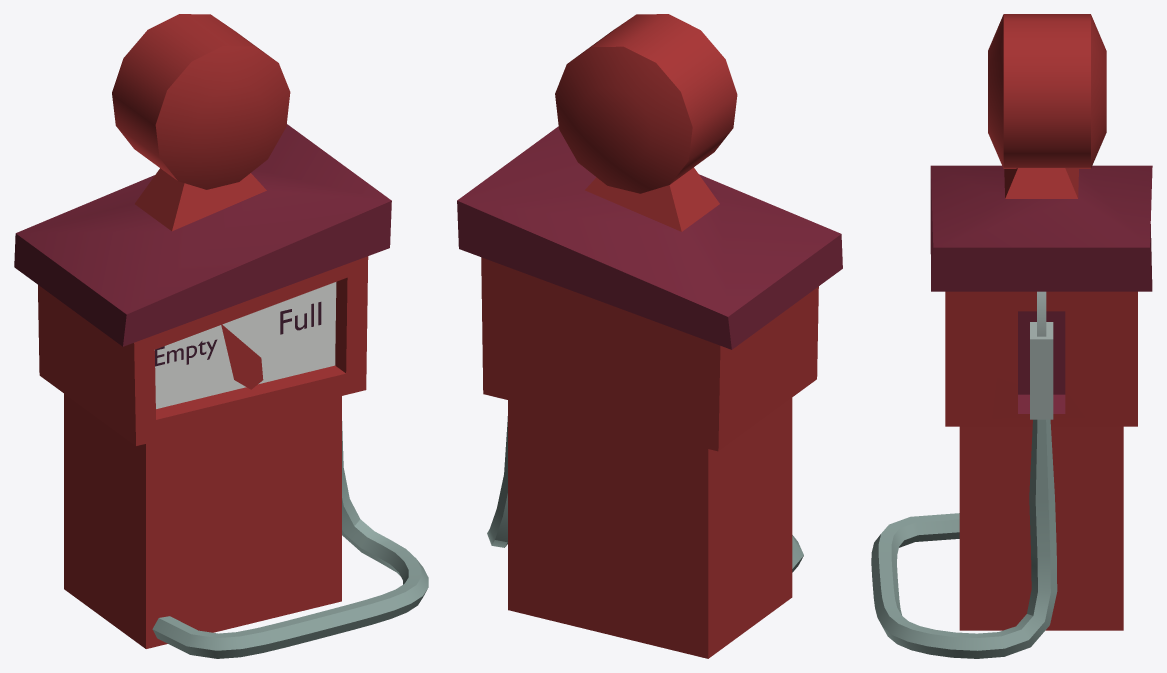
The model's file is Instrybutor.fbx.
The picture shows the model from 3 angles, left to right: view 1: azimuth 30°, elevation 25°; view 2: azimuth 150°, elevation 25°; view 3: azimuth 270°, elevation 25°; orthographic projection. The views are drawn at different scales.
Visible parts, largest first — view 1: Dystrybutor; view 2: Dystrybutor; view 3: Dystrybutor.
Part boxes in pixels (<box>): Dystrybutor: <box>14,14,428,658</box>; Dystrybutor: <box>457,14,842,658</box>; Dystrybutor: <box>871,14,1152,658</box>.
Size of the model in its own units: 113 by 195 by 88.28.
